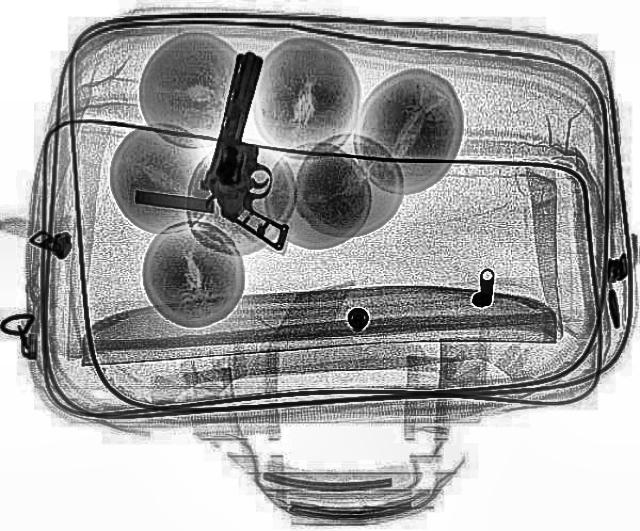Gun: (185, 46, 332, 252)
